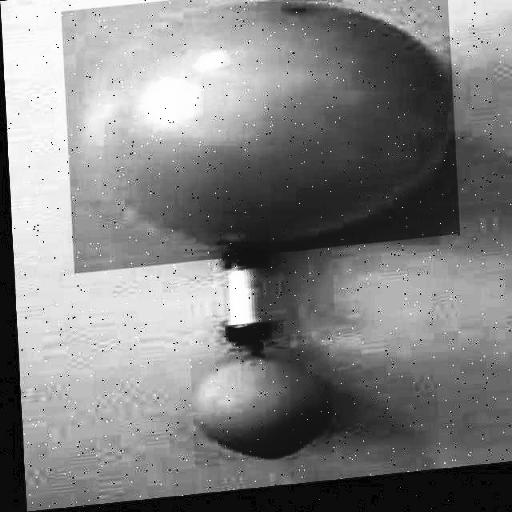balloon: (71, 0, 454, 274), (184, 351, 333, 469)
